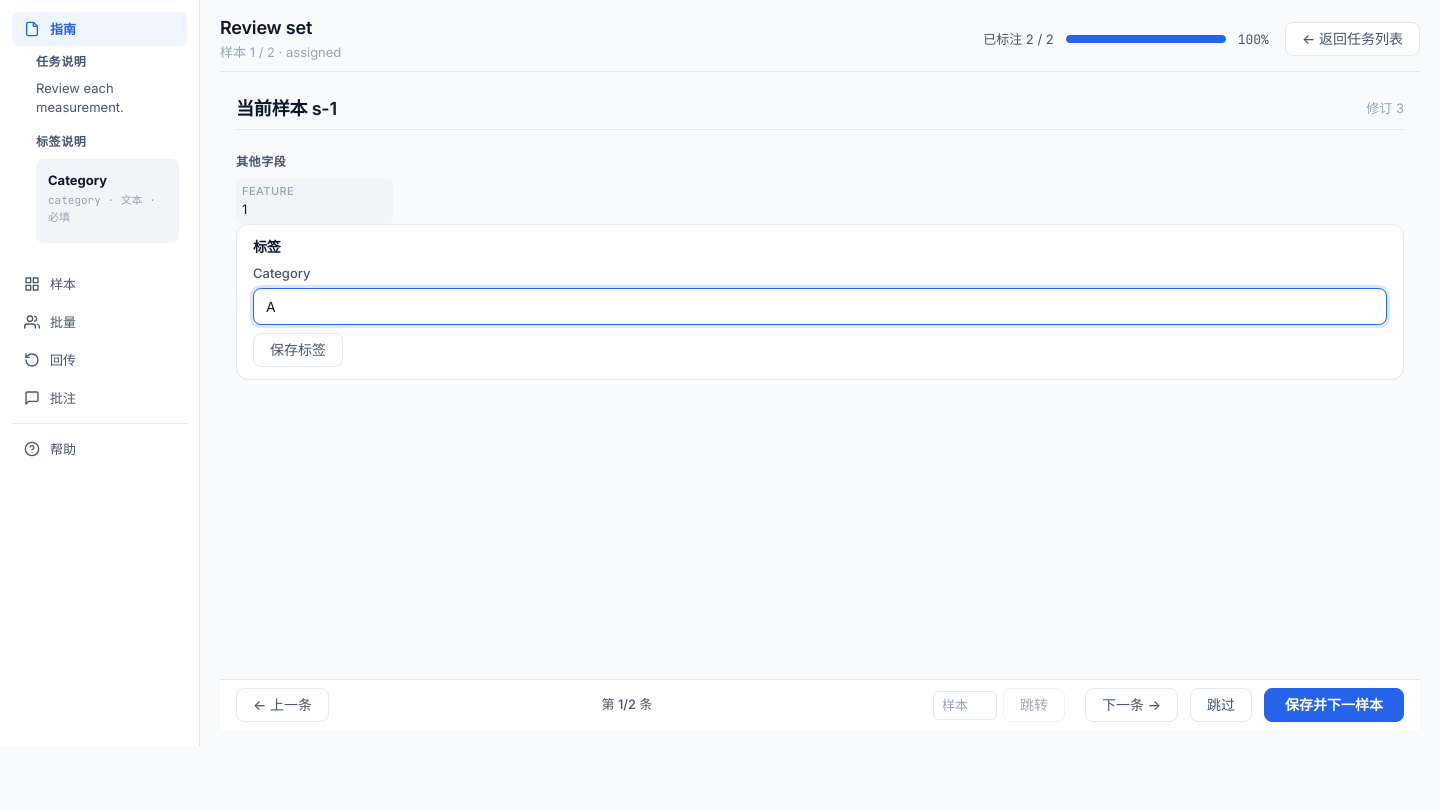
it: TaskWorkspacePage › re-confirms and retries the return when a post-confirm edit invalidated it
Check: the field named "category-s-1" is shown, box [253, 288, 1387, 325]
Step 1. Click the tab "回传" → click(100, 360), box [12, 343, 187, 377]
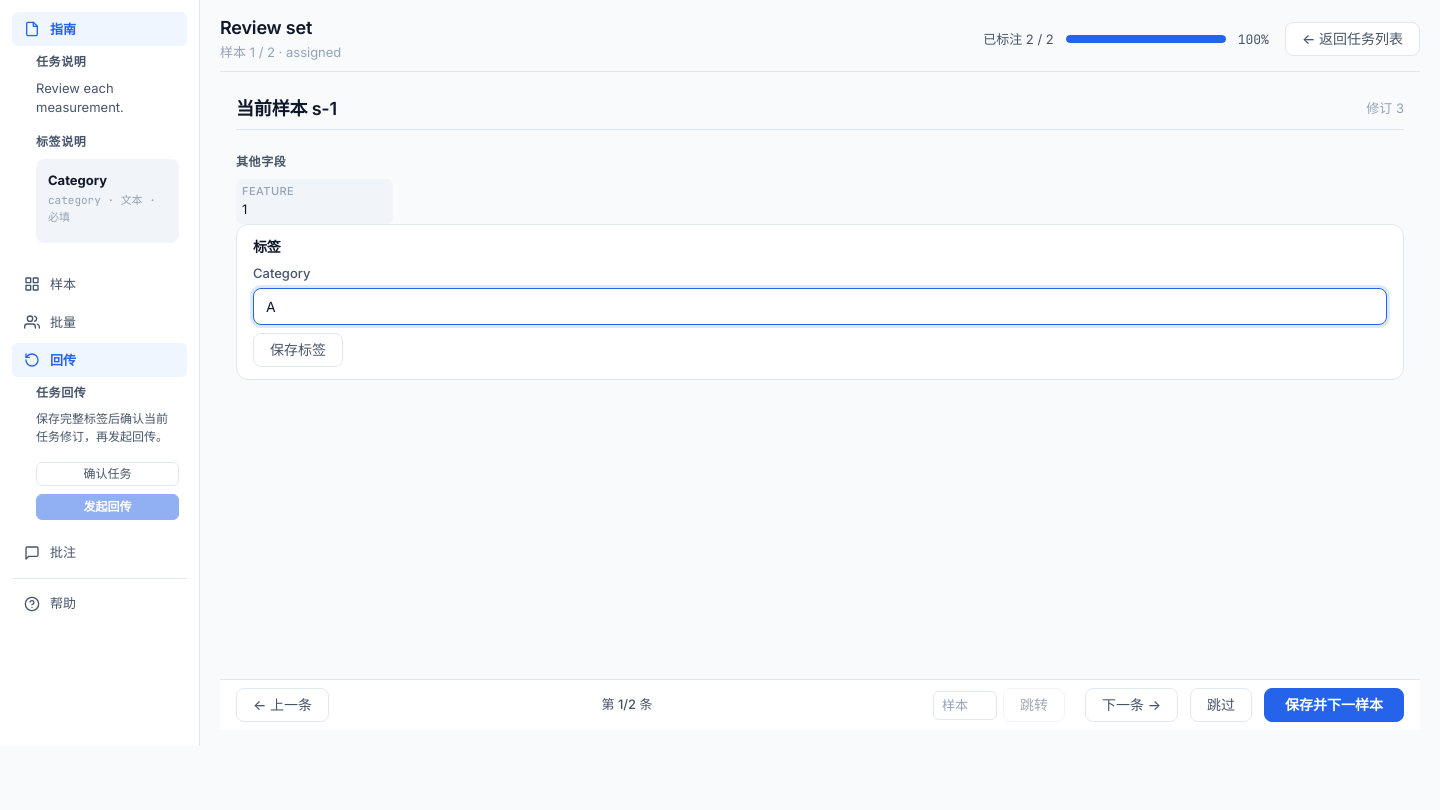
Check: the button "确认任务" is enabled
Step 2. Click the button "确认任务" → click(108, 474), box [36, 462, 179, 486]
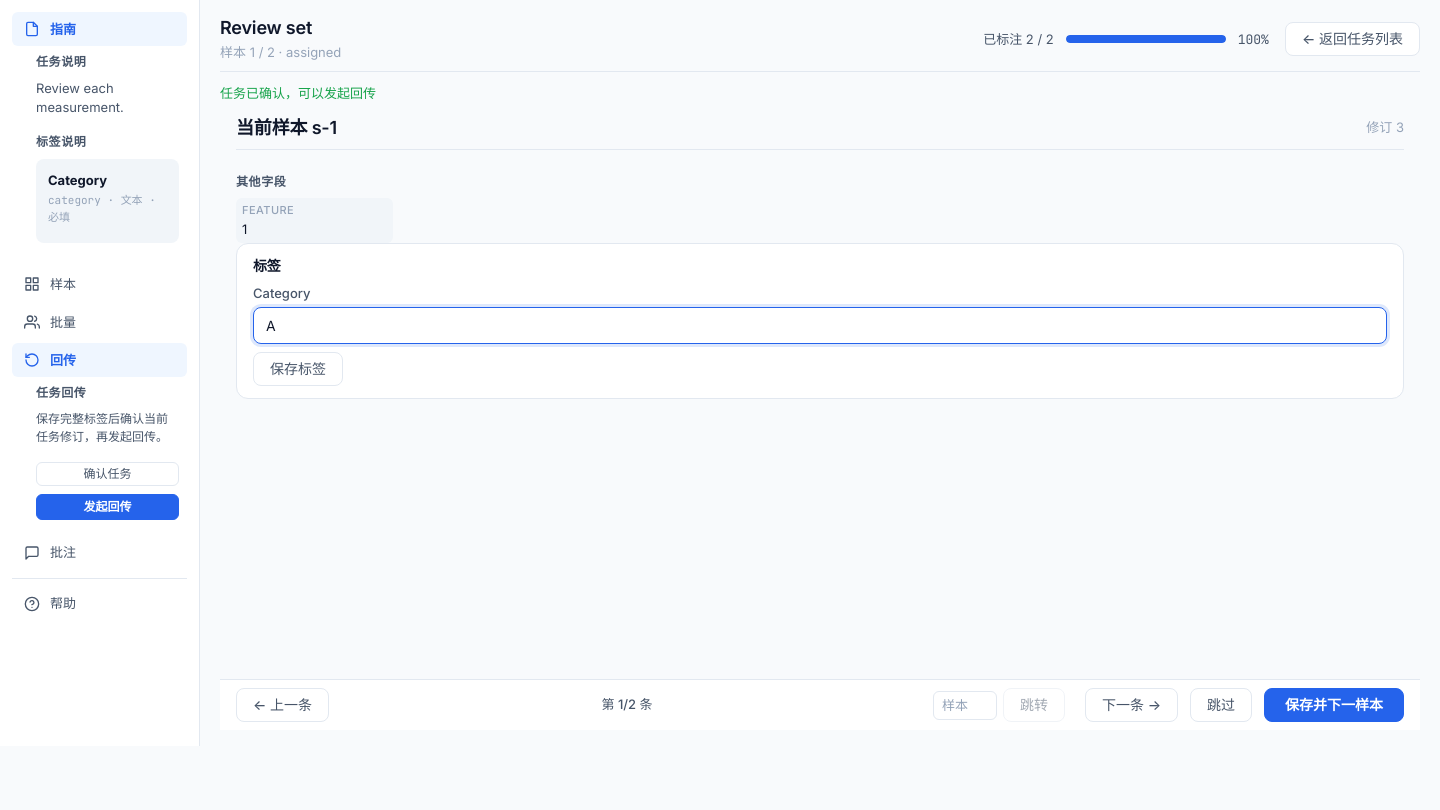
Check: the button "发起回传" is enabled
Step 3. Click the button "发起回传" → click(108, 507), box [36, 494, 179, 520]
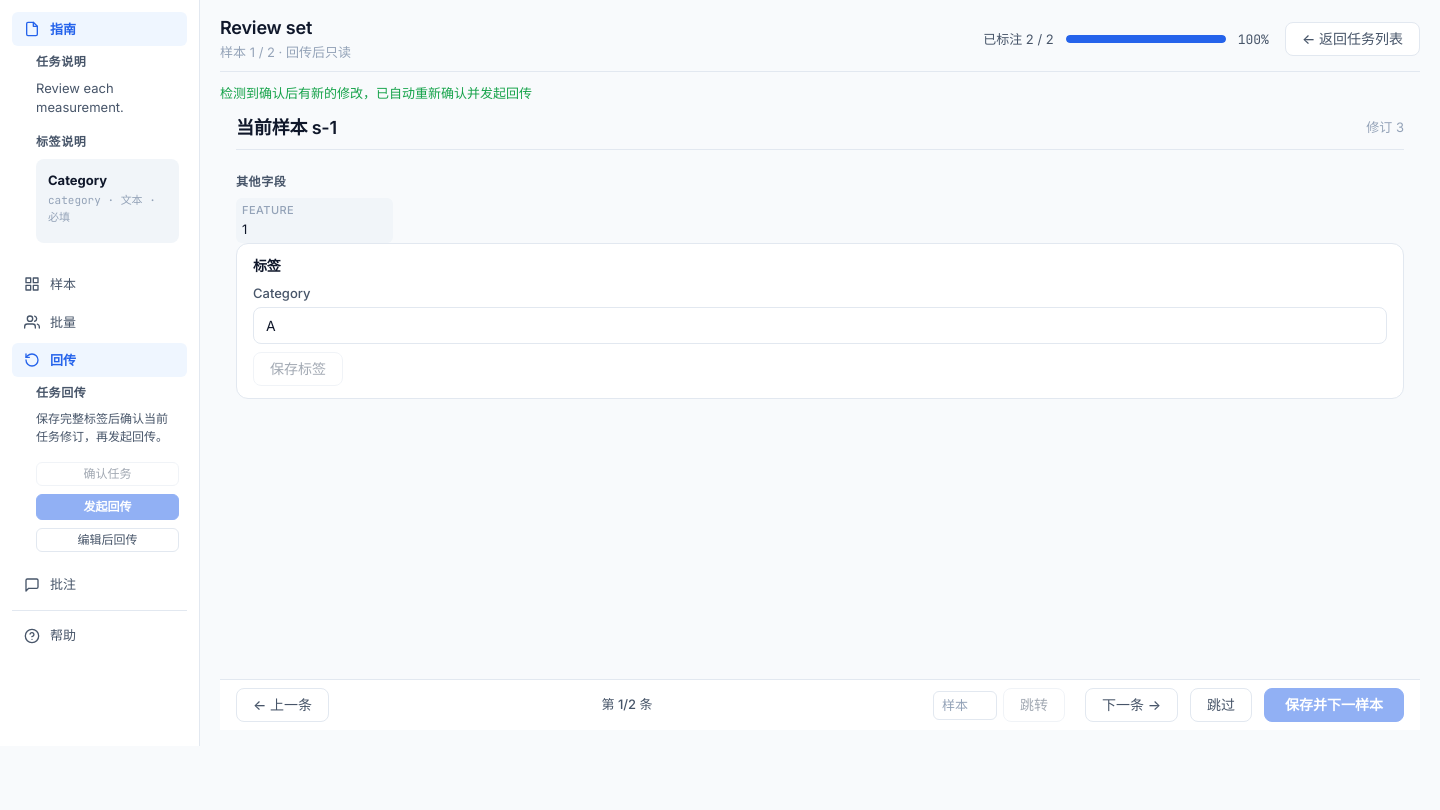
Check: the text "检测到确认后有新的修改，已自动重新确认并发起回传" is shown, box [220, 85, 532, 101]
